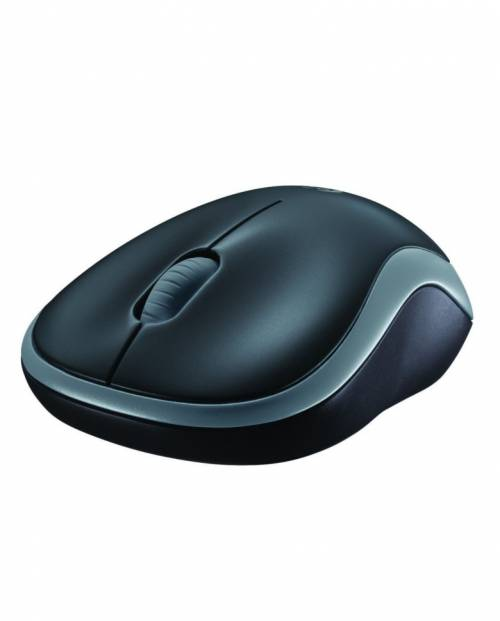logitech-mouse-m185: (13, 182, 476, 468)
